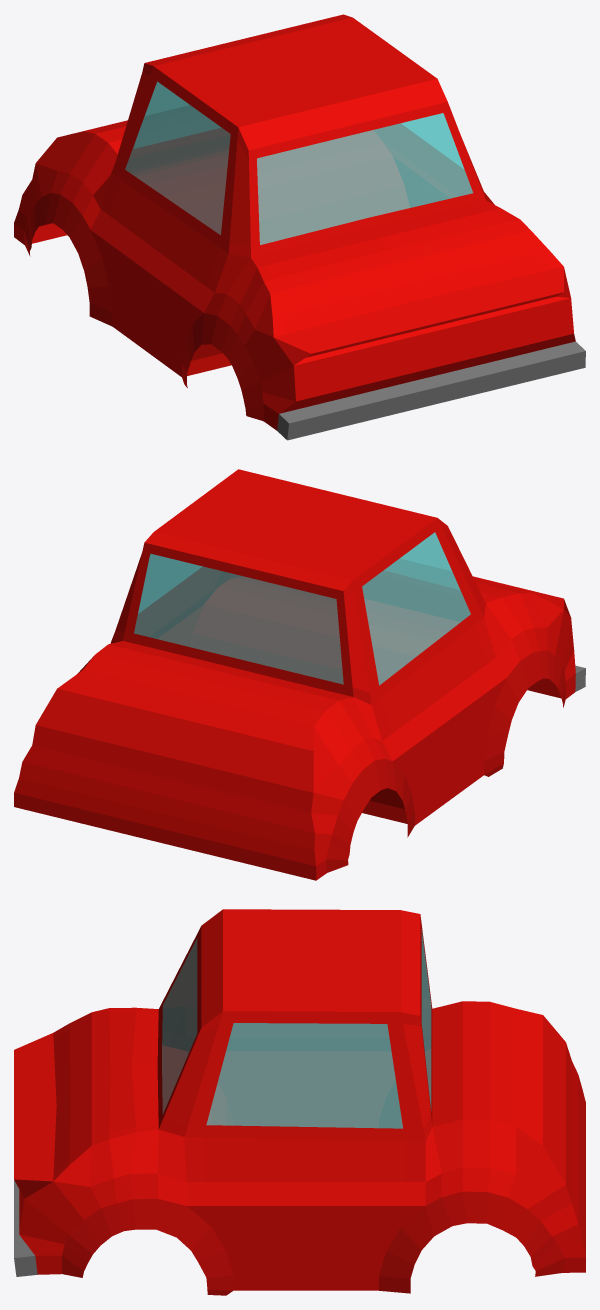
Rendered from CarBody.fbx.
3 renders of one model, top to bottom at view 1: azimuth 30°, elevation 25°; view 2: azimuth 150°, elevation 25°; view 3: azimuth 270°, elevation 25°, orthographic. The views are drawn at different scales.
Visible parts, largest first — view 1: CarBody; view 2: CarBody; view 3: CarBody.
Boxes of the visible parts, bbox=[...] form: CarBody: bbox=[14, 14, 585, 440]; CarBody: bbox=[14, 469, 585, 880]; CarBody: bbox=[14, 909, 585, 1295].
Size of the model in its own units: 503 by 370 by 746.
